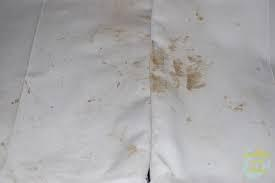earth: (149, 47, 206, 91)
